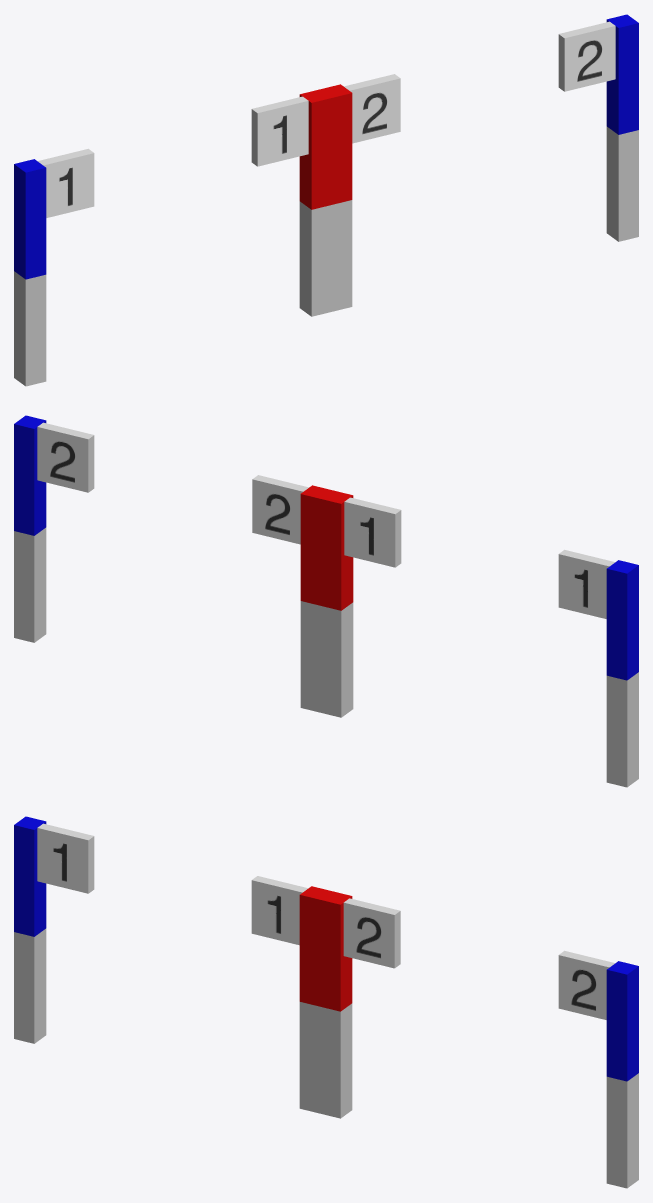
The model's file is R5_frag.dae.
3 views of the same model, one above another, from view 1: azimuth 30°, elevation 25°; view 2: azimuth 150°, elevation 25°; view 3: azimuth 330°, elevation 25° (orthographic).
Parts seen in each view (by area): view 1: Group1, Group2, Group3, Group4, __1_2, __1_22, __1_1, __1_12; view 2: Group1, Group2, Group3, Group4, __1_2, __1_22, __1_1, __1_12; view 3: Group3, Group4, Group1, Group2, __1_12, __1_1, __1_2, __1_22.
Part boxes in pixels (x1,y1,x2,y2): Group1: (14,159,46,386); Group2: (299,89,331,316); Group3: (606,14,638,241); Group4: (320,84,352,311); __1_2: (251,96,308,166); __1_22: (558,21,615,91); __1_1: (37,148,94,217); __1_12: (344,74,400,143); Group1: (606,560,638,787); Group2: (321,490,353,717); Group3: (14,415,46,642); Group4: (300,485,332,712); __1_2: (344,497,401,567); __1_22: (37,422,94,492); __1_1: (558,549,615,618); __1_12: (252,475,308,544); Group3: (606,961,638,1188); Group4: (320,891,352,1118); Group1: (14,816,46,1043); Group2: (299,886,331,1113); __1_12: (343,898,400,968); __1_1: (37,823,94,893); __1_2: (251,876,307,945); __1_22: (558,950,615,1019).
Bounding box in the file's own units: 6 × 0.2 × 2.
